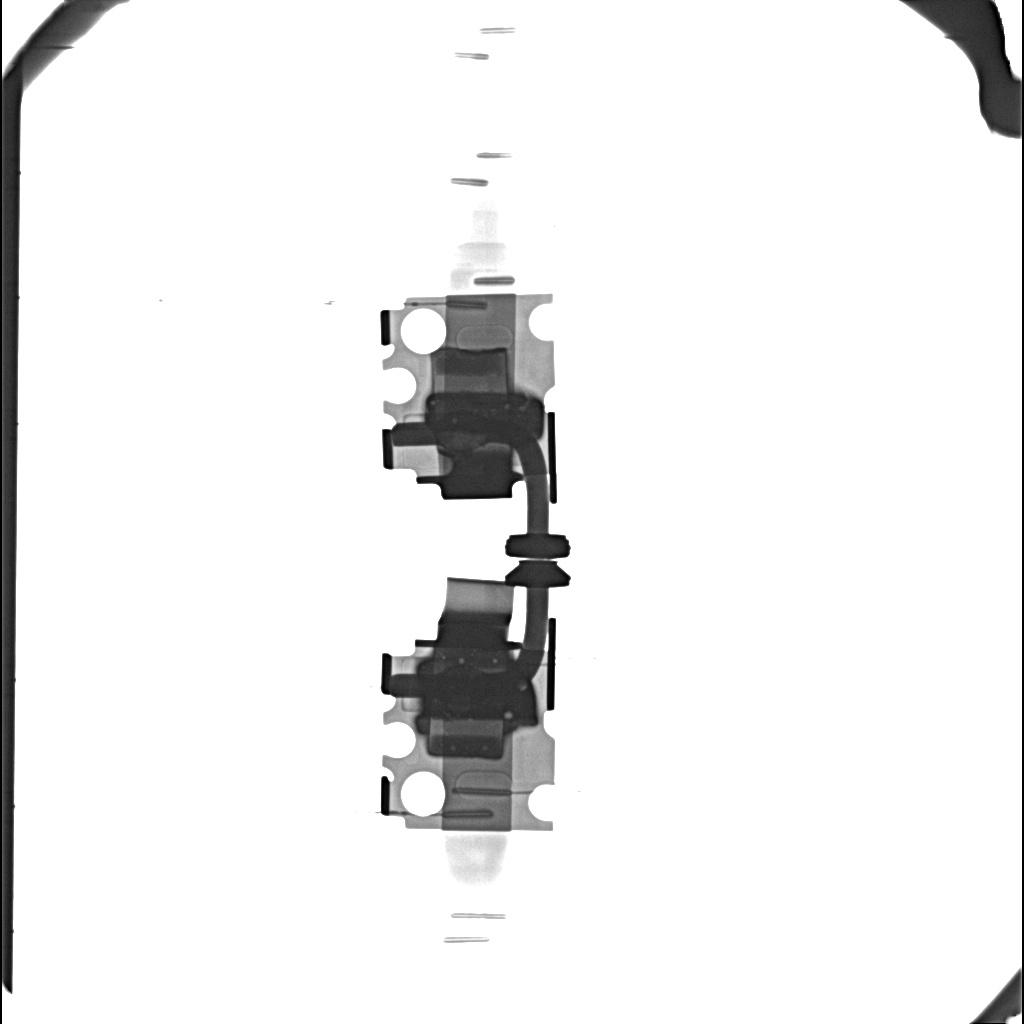PX: (430, 348, 509, 391), (428, 719, 505, 760)
SX: (419, 672, 535, 720), (427, 393, 542, 441)
